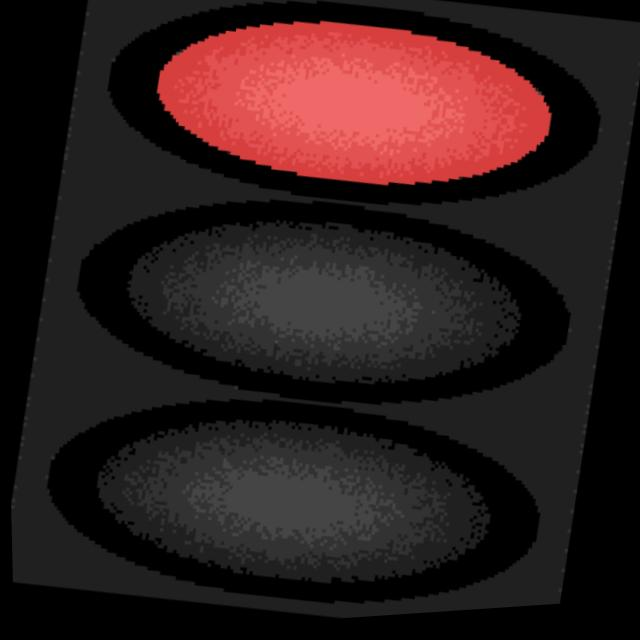red_light: (54, 0, 552, 269)
